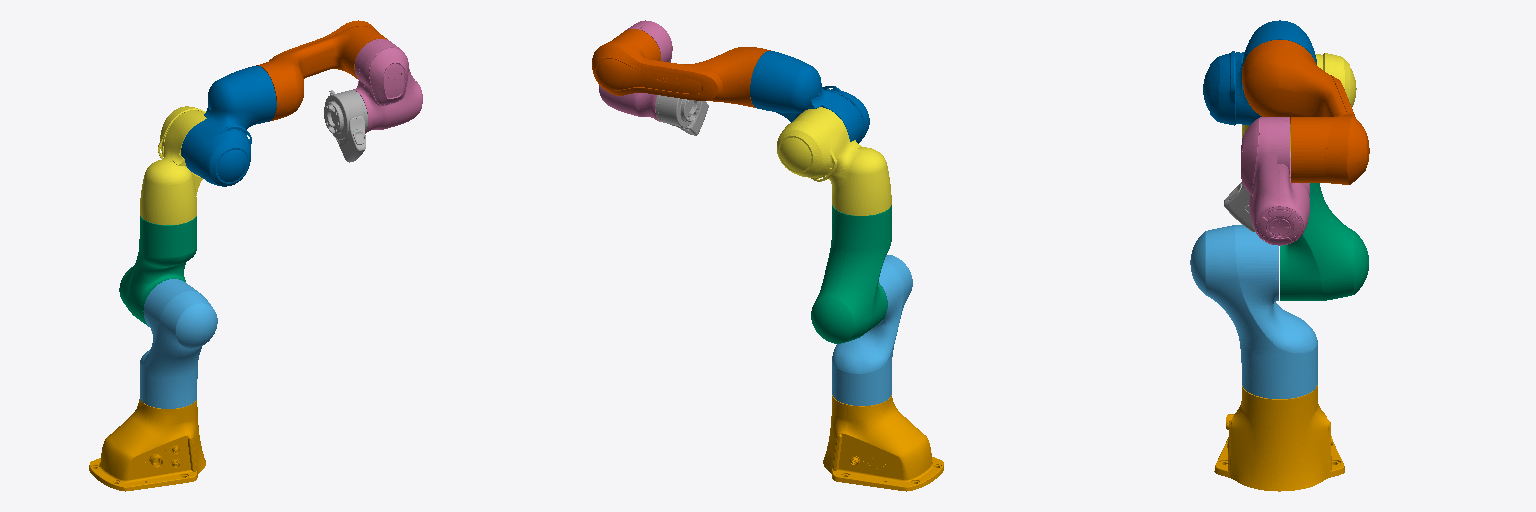
The robot description file, URDF, robot "panda":
<?xml version='1.0' encoding='utf-8'?>
<robot name="panda">

	<link name="link0">
		<inertial>
			<origin xyz="0 0 0.05" rpy="0 0 0" />
			<mass value="4" />
			<inertia ixx="0.4" iyy="0.4" izz="0.4" ixy="0" ixz="0" iyz="0" />
		</inertial>
		<visual>
			<geometry>
				<mesh filename="meshes/visual/link0.obj"/>
			</geometry>
		</visual>
		<!-- <collision>
			<geometry>
				<mesh filename="meshes/collision/link0.obj"/>
			</geometry>
		</collision> -->
	</link>
	<link name="link1">
		<inertial>
			<origin xyz="0 0 -0.07" rpy="0 -0 0" />
			<mass value="3" />
			<inertia ixx="0.3" iyy="0.3" izz="0.3" ixy="0" ixz="0" iyz="0" />
		</inertial>
		<visual>
			<geometry>
				<mesh filename="meshes/visual/link1.obj"/>
			</geometry>
		</visual>
		<!-- <collision>
			<geometry>
				<mesh filename="meshes/collision/link1.obj"/>
			</geometry>
		</collision> -->
	</link>
	<link name="link2">
		<inertial>
			<origin xyz="0 -0.1 0" rpy="0 -0 0" />
			<mass value="3" />
			<inertia ixx="0.3" iyy="0.3" izz="0.3" ixy="0" ixz="0" iyz="0" />
		</inertial>
		<visual>
			<geometry>
				<mesh filename="meshes/visual/link2.obj"/>
			</geometry>
		</visual>
		<!-- <collision>
			<geometry>
				<mesh filename="meshes/collision/link2.obj"/>
			</geometry>
		</collision> -->
	</link>
	<link name="link3">
		<inertial>
			<origin xyz="0.04 0 -0.05" rpy="0 -0 0" />
			<mass value="2" />
			<inertia ixx="0.2" iyy="0.2" izz="0.2" ixy="0" ixz="0" iyz="0" />
		</inertial>
		<visual>
			<geometry>
				<mesh filename="meshes/visual/link3.obj"/>
			</geometry>
		</visual>
		<!-- <collision>
			<geometry>
				<mesh filename="meshes/collision/link3.obj"/>
			</geometry>
		</collision> -->
	</link>
	<link name="link4">
		<inertial>
			<origin xyz="-0.04 0.05 0" rpy="0 -0 0" />
			<mass value="2" />
			<inertia ixx="0.2" iyy="0.2" izz="0.2" ixy="0" ixz="0" iyz="0" />
		</inertial>
		<visual>
			<geometry>
				<mesh filename="meshes/visual/link4.obj"/>
			</geometry>
		</visual>
		<!-- <collision>
			<geometry>
				<mesh filename="meshes/collision/link4.obj"/>
			</geometry>
		</collision> -->
	</link>
	<link name="link5">
		<inertial>
			<origin xyz="0 0 -0.15" rpy="0 -0 0" />
			<mass value="2" />
			<inertia ixx="0.2" iyy="0.2" izz="0.2" ixy="0" ixz="0" iyz="0" />
		</inertial>
		<visual>
			<geometry>
				<mesh filename="meshes/visual/link5.obj"/>
			</geometry>
		</visual>
		<!-- <collision>
			<geometry>
				<mesh filename="meshes/collision/link5.obj"/>
			</geometry>
		</collision> -->
	</link>
	<link name="link6">
		<inertial>
			<origin xyz="0.06 0 0" rpy="0 -0 0" />
			<mass value="1.5" />
			<inertia ixx="0.1" iyy="0.1" izz="0.1" ixy="0" ixz="0" iyz="0" />
		</inertial>
		<visual>
			<geometry>
				<mesh filename="meshes/visual/link6.obj"/>
			</geometry>
		</visual>
		<!-- <collision>
			<geometry>
				<mesh filename="meshes/collision/link6.obj"/>
			</geometry>
		</collision> -->
	</link>
	<link name="link7">
		<inertial>
			<origin xyz="0 0 0.17" rpy="0 -0 0" />
			<mass value="1.8" />
			<inertia ixx="0.09" iyy="0.05" izz="0.07" ixy="0" ixz="0" iyz="0" />
		</inertial>
		<visual>
			<geometry>
				<mesh filename="meshes/visual/link7.obj"/>
			</geometry>
		</visual>
		<!-- <collision>
			<geometry>
				<mesh filename="meshes/collision/link7.obj"/>
			</geometry>
		</collision> -->
	</link>
	<link name="end-effector">
		<inertial>
			<origin xyz="0 0 0" rpy="0 -0 0" />
			<mass value="0.05" />
			<inertia ixx="0.01" iyy="0.01" izz="0.01" ixy="0" ixz="0" iyz="0" />
		</inertial>
	</link>

	<joint name="joint1" type="revolute">
		<safety_controller k_position="100.0" k_velocity="40.0" soft_lower_limit="-2.8973" soft_upper_limit="2.8973"/>
		<origin rpy="0 0 0" xyz="0 0 0.333"/>
		<parent link="link0"/>
		<child link="link1"/>
		<axis xyz="0 0 1"/>
		<calibration falling="0.0" />
		<limit effort="87" lower="-2.8973" upper="2.8973" velocity="2.1750"/>
	</joint>
	<joint name="joint2" type="revolute">
		<safety_controller k_position="100.0" k_velocity="40.0" soft_lower_limit="-1.7628" soft_upper_limit="1.7628"/>
		<origin rpy="-1.57079632679 0 0" xyz="0 0 0"/>
		<parent link="link1"/>
		<child link="link2"/>
		<axis xyz="0 0 1"/>
		<calibration falling="-25.0" />
		<limit effort="87" lower="-1.7628" upper="1.7628" velocity="2.1750"/>
	</joint>
	<joint name="joint3" type="revolute">
		<safety_controller k_position="100.0" k_velocity="40.0" soft_lower_limit="-2.8973" soft_upper_limit="2.8973"/>
		<origin rpy="1.57079632679 0 0" xyz="0 -0.316 0"/>
		<parent link="link2"/>
		<child link="link3"/>
		<axis xyz="0 0 1"/>
		<limit effort="87" lower="-2.8973" upper="2.8973" velocity="2.1750"/>
	</joint>
	<joint name="joint4" type="revolute">
		<safety_controller k_position="100.0" k_velocity="40.0" soft_lower_limit="-3.0718" soft_upper_limit="-0.0698"/>
		<origin rpy="1.57079632679 0 0" xyz="0.0825 0 0"/>
		<parent link="link3"/>
		<child link="link4"/>
		<axis xyz="0 0 1"/>
		<calibration falling="-135.0" />
		<limit effort="87" lower="-3.0718" upper="-0.0698" velocity="2.1750"/>
	</joint>
	<joint name="joint5" type="revolute">
		<safety_controller k_position="100.0" k_velocity="40.0" soft_lower_limit="-2.8973" soft_upper_limit="2.8973"/>
		<origin rpy="-1.57079632679 0 0" xyz="-0.0825 0.384 0"/>
		<parent link="link4"/>
		<child link="link5"/>
		<axis xyz="0 0 1"/>
		<calibration falling="0.0" />
		<limit effort="12" lower="-2.8973" upper="2.8973" velocity="2.6100"/>
	</joint>
	<joint name="joint6" type="revolute">
		<safety_controller k_position="100.0" k_velocity="40.0" soft_lower_limit="-0.0175" soft_upper_limit="3.7525"/>
		<origin rpy="1.57079632679 0 0" xyz="0 0 0"/>
		<parent link="link5"/>
		<child link="link6"/>
		<axis xyz="0 0 1"/>
		<calibration falling="105.0" />
		<limit effort="12" lower="-0.0175" upper="3.7525" velocity="2.6100"/>
	</joint>
	<joint name="joint7" type="revolute">
		<safety_controller k_position="100.0" k_velocity="40.0" soft_lower_limit="-2.8973" soft_upper_limit="2.8973"/>
		<origin rpy="1.57079632679 0 0" xyz="0.088 0 0"/>
		<parent link="link6"/>
		<child link="link7"/>
		<axis xyz="0 0 1"/>
		<limit effort="12" lower="-2.8973" upper="2.8973" velocity="2.6100"/>
	</joint>
	<joint name="joint_ee" type="fixed">
		<origin rpy="0 0 0" xyz="0 0 0.107"/>
		<parent link="link7"/>
		<child link="end-effector"/>
	</joint>
</robot>

--- What the picture shows (computed from the rendered views, not written in the file) ---
The picture shows the robot from 3 angles, left to right: view 1: azimuth 30°, elevation 25°; view 2: azimuth 150°, elevation 25°; view 3: azimuth 270°, elevation 25°; orthographic projection.
Robot: panda — 9 links, 8 joints (7 revolute, 1 fixed); root link link0; default pose: all joints at 0 but 1 set to mid-range because 0 is outside their limits (joint4 = -1.57).
Links seen in each view (by area): view 1: link0, link1, link4, link3, link5, link6, link2, link7; view 2: link0, link5, link2, link3, link1, link4, link6, link7; view 3: link1, link5, link0, link2, link6, link4, link3, link7.
Link boxes in pixels (x1,y1,x2,y2): link0: [89, 399, 205, 491]; link1: [140, 279, 217, 408]; link4: [181, 66, 276, 186]; link3: [140, 106, 206, 224]; link5: [256, 20, 387, 121]; link6: [353, 39, 422, 133]; link2: [119, 216, 196, 326]; link7: [324, 90, 367, 162]; link0: [823, 395, 943, 491]; link5: [592, 29, 770, 107]; link2: [811, 205, 891, 343]; link3: [777, 107, 891, 215]; link1: [832, 255, 912, 405]; link4: [750, 51, 869, 143]; link6: [599, 20, 672, 121]; link7: [655, 95, 708, 135]; link1: [1190, 225, 1317, 398]; link5: [1242, 40, 1369, 184]; link0: [1214, 385, 1344, 491]; link2: [1280, 183, 1368, 300]; link6: [1241, 117, 1309, 245]; link4: [1203, 20, 1316, 125]; link3: [1242, 53, 1356, 150]; link7: [1224, 151, 1309, 231].
Bounding box of the posed robot: 0.7022 × 0.2593 × 0.7865 m (x, y, z).
8 mesh visuals loaded from 8 distinct referenced files (8 OBJ).